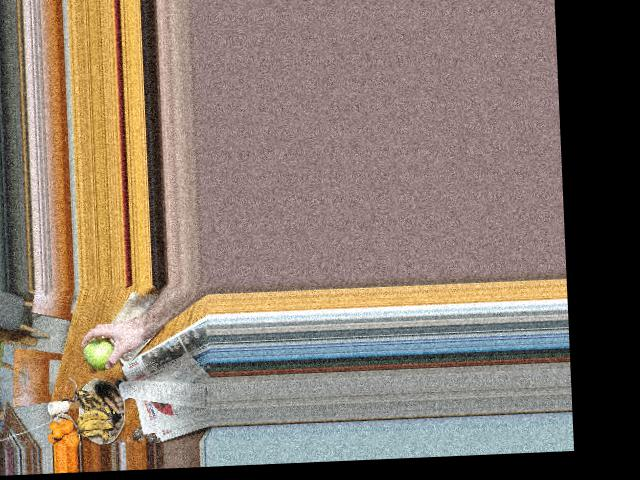apple: (81, 338, 116, 369)
